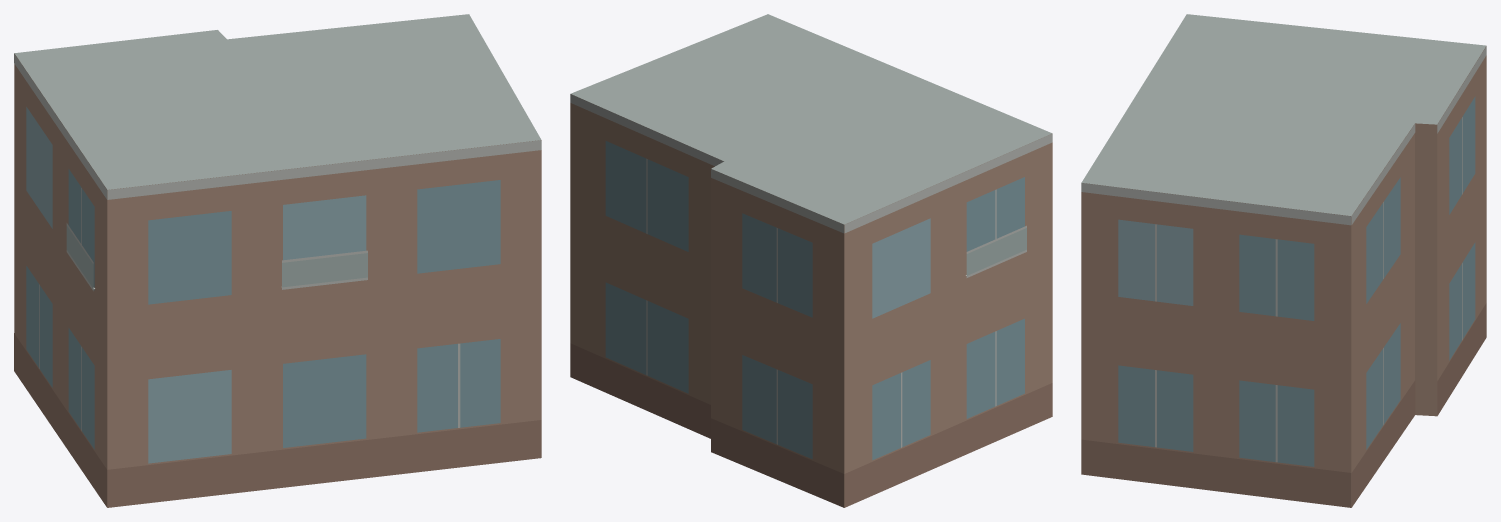
Rendered from survey-upis-32656325.glb.
3 views of the same model, side by side, from view 1: azimuth 30°, elevation 25°; view 2: azimuth 150°, elevation 25°; view 3: azimuth 270°, elevation 25° (orthographic). The views are drawn at different scales.
Parts seen in each view (by area): view 1: survey-upis-32656325.tmp; view 2: survey-upis-32656325.tmp; view 3: survey-upis-32656325.tmp.
Boxes of the visible parts, <box> form: survey-upis-32656325.tmp: <box>14,14,541,507</box>; survey-upis-32656325.tmp: <box>570,14,1052,507</box>; survey-upis-32656325.tmp: <box>1081,14,1486,507</box>.
Bounding box in the file's own units: 11.45 × 7.7 × 9.7.
